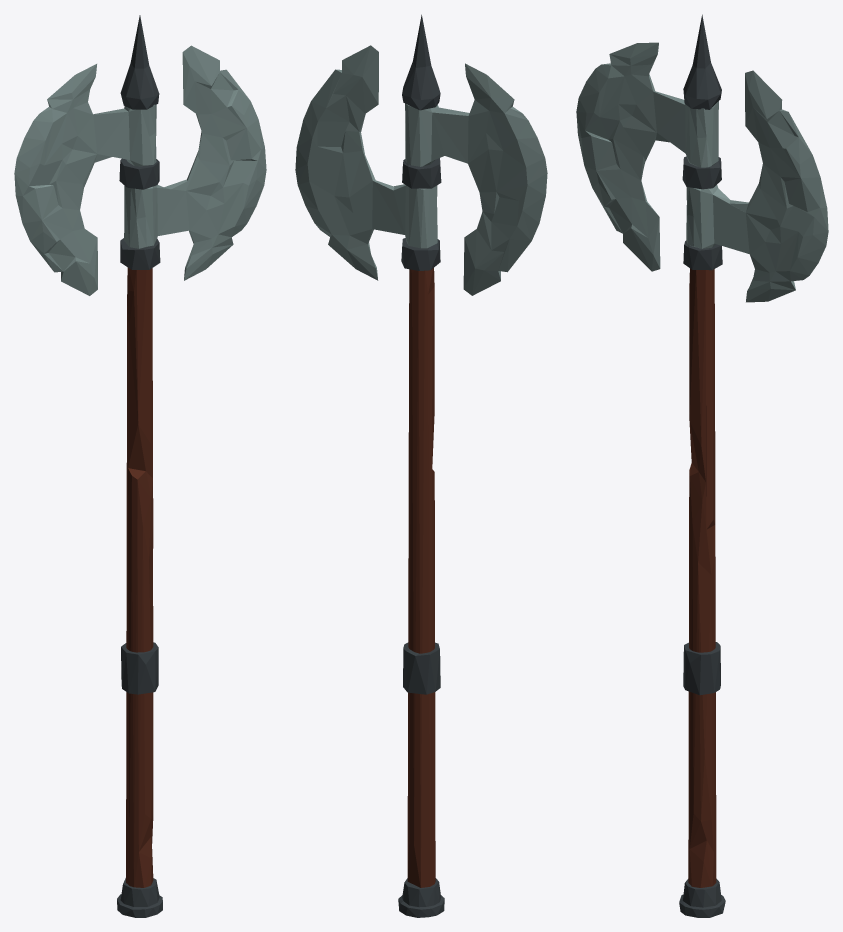
File: MDungeon_LongAxe_01.FBX
3 views of the same model, side by side, from view 1: azimuth 30°, elevation 25°; view 2: azimuth 150°, elevation 25°; view 3: azimuth 330°, elevation 25° (orthographic).
Parts seen in each view (by area): view 1: MDungeon_LongAxe_01_LOD0; view 2: MDungeon_LongAxe_01_LOD0; view 3: MDungeon_LongAxe_01_LOD0.
Boxes of the visible parts, bbox=[...] form: MDungeon_LongAxe_01_LOD0: bbox=[14, 15, 266, 917]; MDungeon_LongAxe_01_LOD0: bbox=[295, 14, 547, 917]; MDungeon_LongAxe_01_LOD0: bbox=[576, 14, 828, 917].
Size of what is drawn, in the model's own units: 0.6562 by 2.22 by 0.1043.
1 material, 1 textured.
